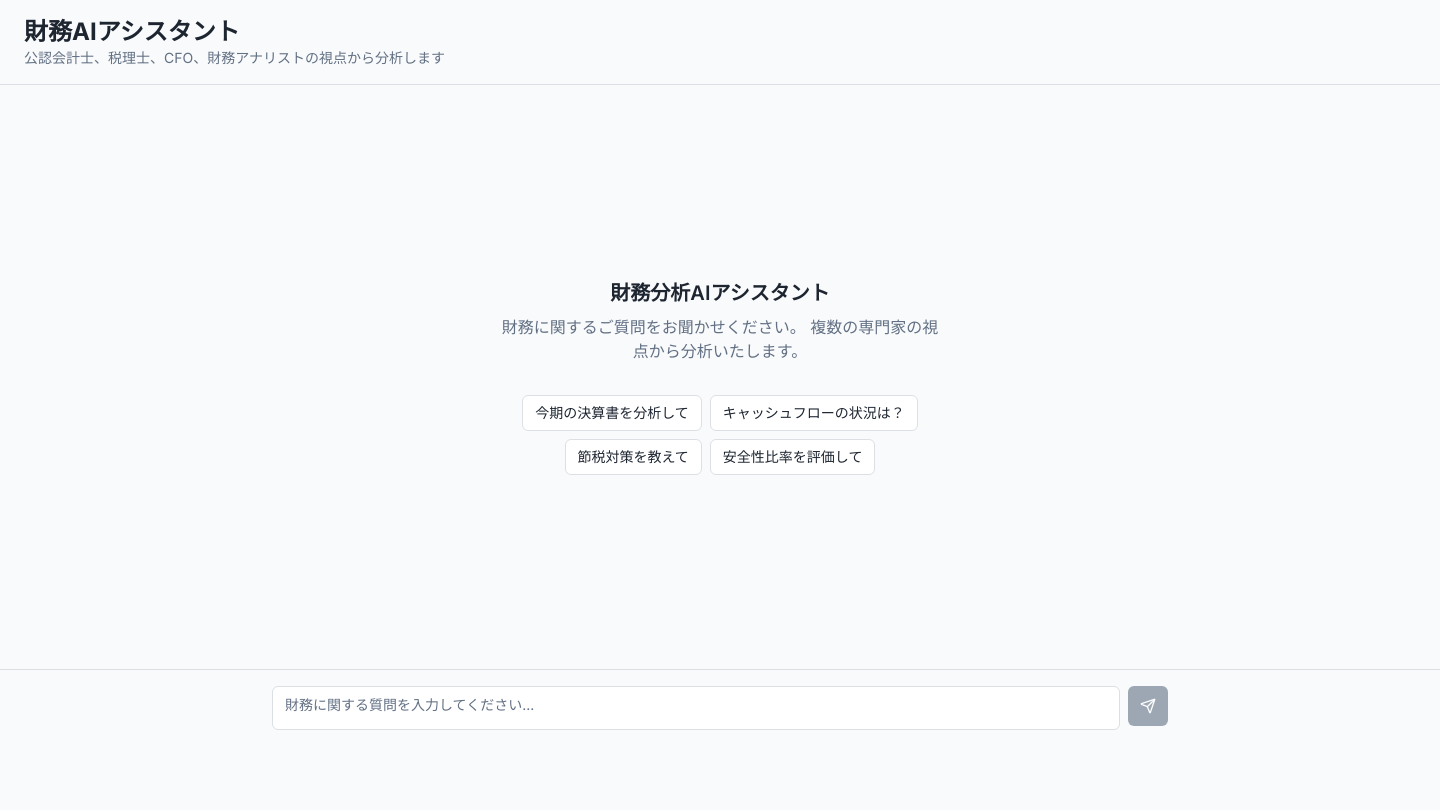
Test: ChatPage › should send message and display response
The image size is (1440, 810).
Type "分析して" into the text box at [696, 708], box 272,686 -> 1120,730
Then press Enter
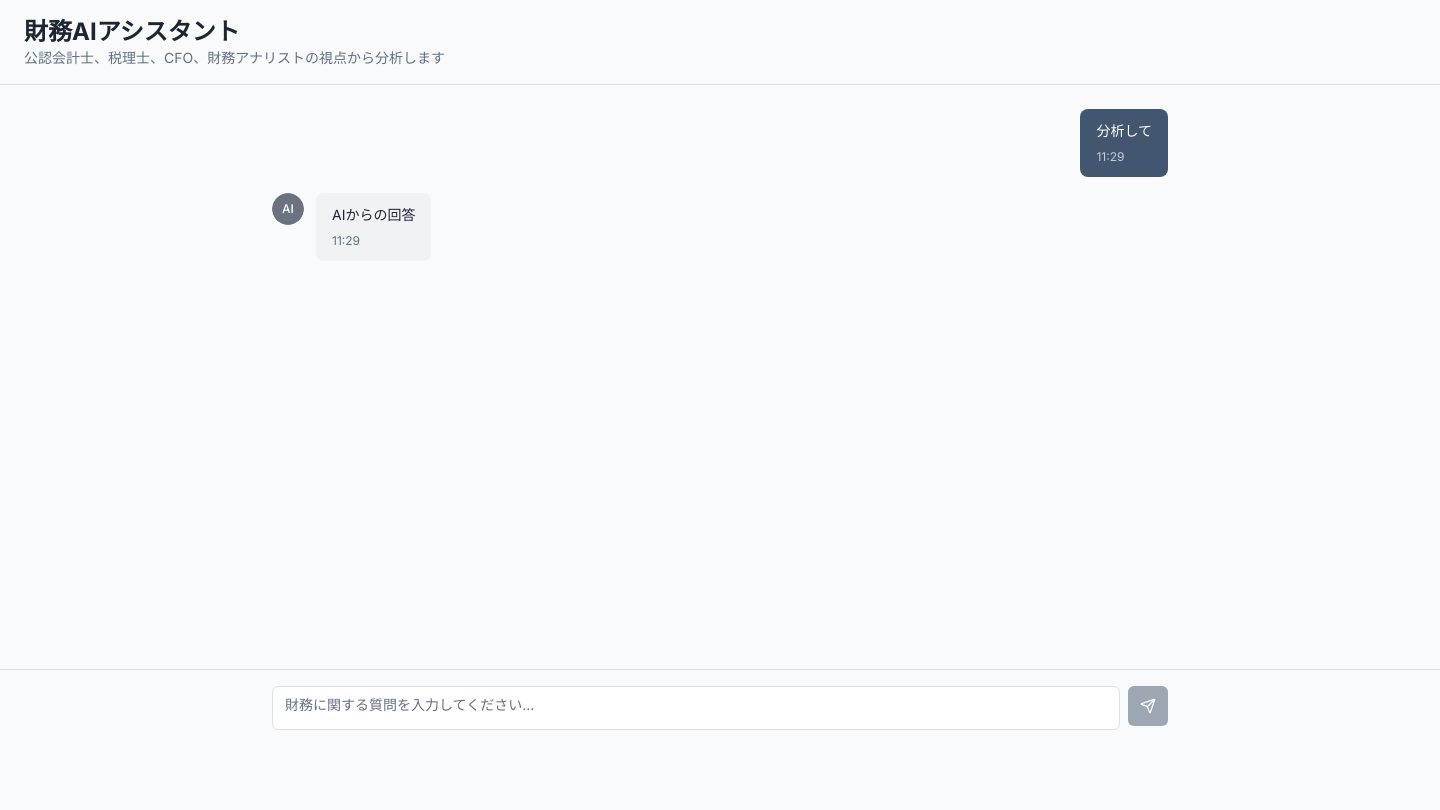
Check: the text "分析して" is shown, box 1096,121 -> 1152,141
Check: the text "AIからの回答" is shown, box 332,205 -> 415,225
